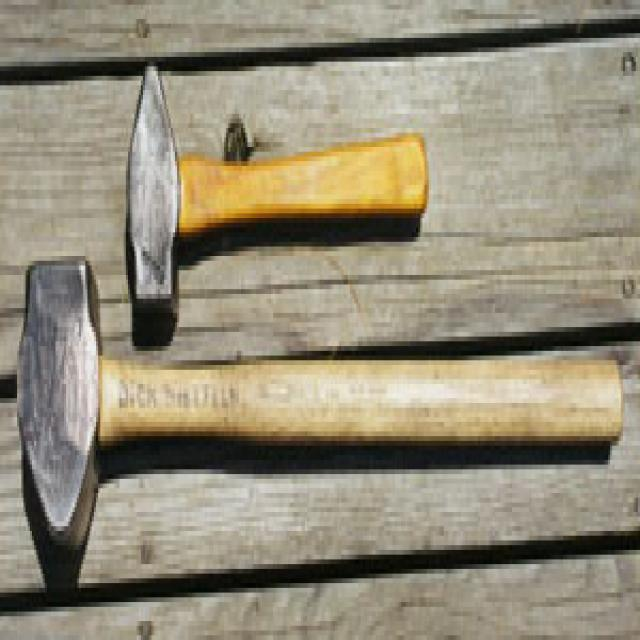hammer: (8, 241, 632, 594), (116, 50, 435, 342)
